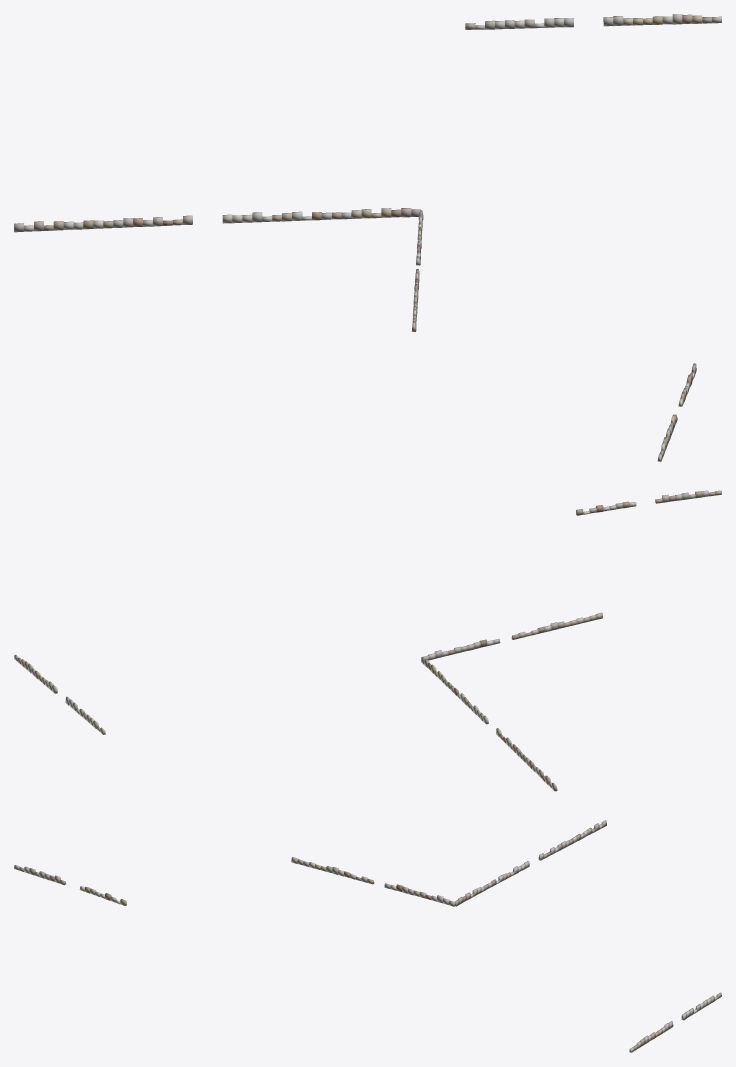
File: farm_3_-6_far.glb
3 renders of one model, top to bottom at view 1: azimuth 30°, elevation 25°; view 2: azimuth 150°, elevation 25°; view 3: azimuth 270°, elevation 25°, orthographic. The views are drawn at different scales.
Parts seen in each view (by area): view 1: geometry_0; view 2: geometry_0; view 3: geometry_0.
Part boxes in pixels (x1,y1,x2,y2): geometry_0: [14, 14, 721, 461]; geometry_0: [14, 490, 721, 791]; geometry_0: [14, 820, 721, 1052].
Bounding box in the file's own units: 133 × 8.52 × 165.
